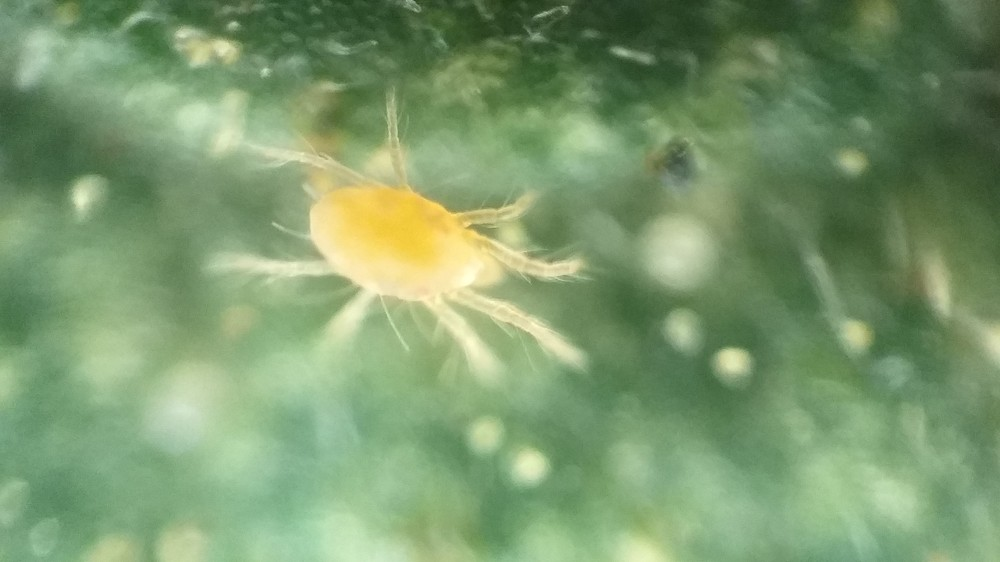Aracnido Rojo: (218, 103, 616, 408)
